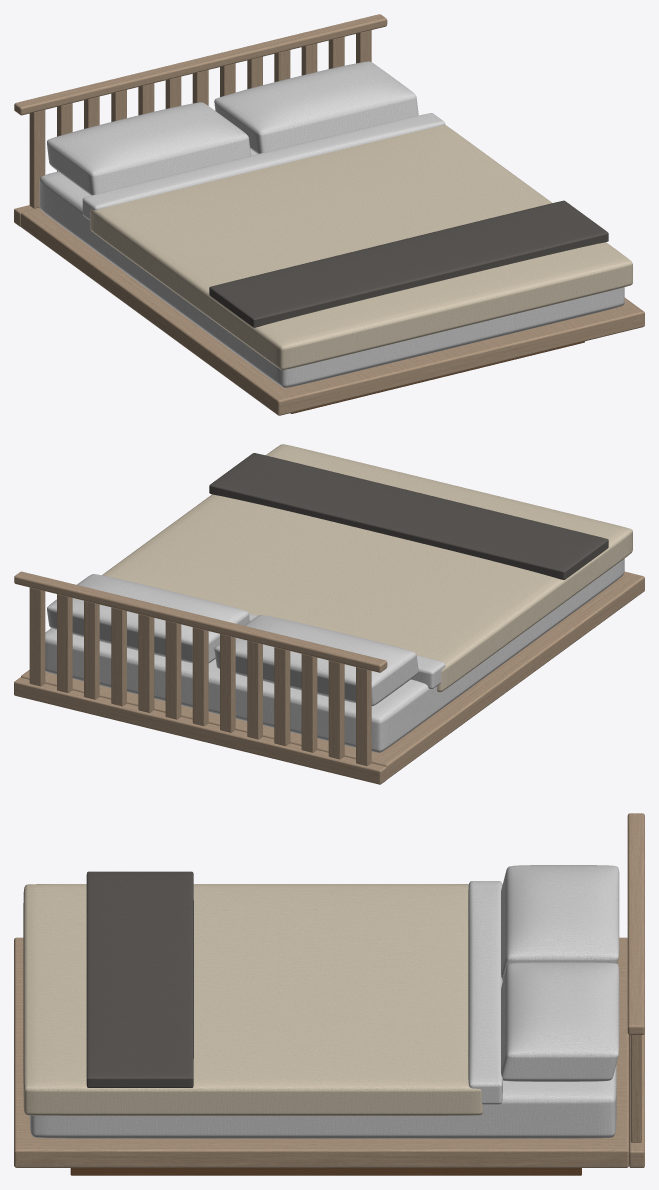
3 renders of one model, top to bottom at view 1: azimuth 30°, elevation 25°; view 2: azimuth 150°, elevation 25°; view 3: azimuth 270°, elevation 25°, orthographic. The views are drawn at different scales.
Parts seen in each view (by area): view 1: Duvet, Folded throw, Ash platform deck, Mattress, Pillow 1, Pillow 2, Turned-down sheet, Headboard cap, Slat 1; view 2: Duvet, Folded throw, Mattress, Ash platform deck, Headboard rail, Pillow 1, Pillow 2, Headboard cap, Slat 8, Slat 2, Slat 13, Slat 7 (+10 smaller); view 3: Duvet, Folded throw, Ash platform deck, Mattress, Pillow 2, Pillow 1, Turned-down sheet, Recessed plinth, Headboard cap, Slat 13, Headboard rail.
Part boxes in pixels (x1,y1,x2,y2): Duvet: (90,125,632,369); Folded throw: (209,200,608,327); Ash platform deck: (20,208,644,415); Mattress: (39,149,624,387); Pillow 1: (47,102,250,195); Pillow 2: (214,61,418,153); Turned-down sheet: (82,113,445,220); Headboard cap: (14,14,387,115); Slat 1: (29,110,45,208); Duvet: (102,444,632,692); Folded throw: (209,453,608,579); Mattress: (45,558,624,752); Ash platform deck: (20,571,644,779); Headboard rail: (14,677,386,784); Pillow 1: (214,615,418,706); Pillow 2: (47,574,249,663); Headboard cap: (14,571,387,672); Slat 8: (165,620,181,719); Slat 2: (328,660,344,759); Slat 13: (29,587,45,686); Slat 7: (192,627,208,726); Duvet: (23,884,483,1115); Folded throw: (86,871,193,1087); Ash platform deck: (14,937,629,1167); Mattress: (29,1064,616,1138); Pillow 2: (501,962,619,1081); Pillow 1: (501,865,619,980); Turned-down sheet: (468,881,502,1104); Recessed plinth: (70,1168,581,1175); Headboard cap: (627,813,644,1034); Slat 13: (630,1035,641,1142); Headboard rail: (629,1033,644,1167).
Bounding box in the file's own units: 1.6 × 0.6 × 2.
Materials: 5 (5 with a texture image).
